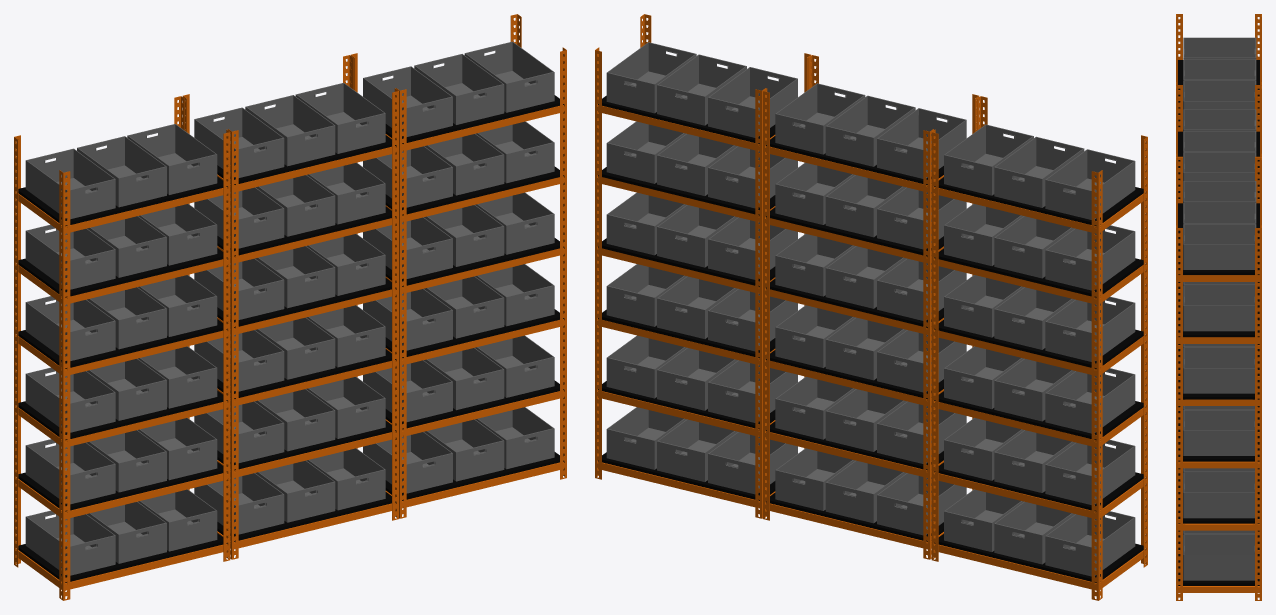
Rendered from shelf.glb.
The picture shows the model from 3 angles, left to right: view 1: azimuth 30°, elevation 25°; view 2: azimuth 150°, elevation 25°; view 3: azimuth 270°, elevation 25°; orthographic projection. The views are drawn at different scales.
Visible parts, largest first — view 1: SKRZYNKI, METALOWY REGAŁ, DREWNIANE PÓŁKI; view 2: SKRZYNKI, METALOWY REGAŁ, DREWNIANE PÓŁKI; view 3: SKRZYNKI, METALOWY REGAŁ, DREWNIANE PÓŁKI.
Boxes of the visible parts, x1,y1,x2,y2 form: SKRZYNKI: (25, 41, 554, 575); METALOWY REGAŁ: (14, 14, 566, 600); DREWNIANE PÓŁKI: (18, 95, 563, 582); SKRZYNKI: (606, 42, 1135, 576); METALOWY REGAŁ: (595, 14, 1147, 600); DREWNIANE PÓŁKI: (598, 95, 1143, 582); SKRZYNKI: (1183, 37, 1256, 580); METALOWY REGAŁ: (1176, 14, 1261, 600); DREWNIANE PÓŁKI: (1178, 60, 1259, 585).
Size of the model in its own units: 3.69 by 3 by 0.6268.
